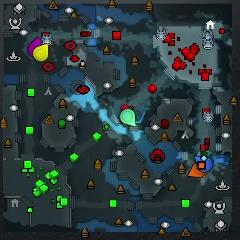p1: (192, 155, 215, 174)
p2: (120, 108, 137, 129)
p3: (28, 37, 42, 58)
p4: (33, 42, 49, 63)
p5: (189, 163, 205, 177)
x3: (196, 150, 211, 156)
